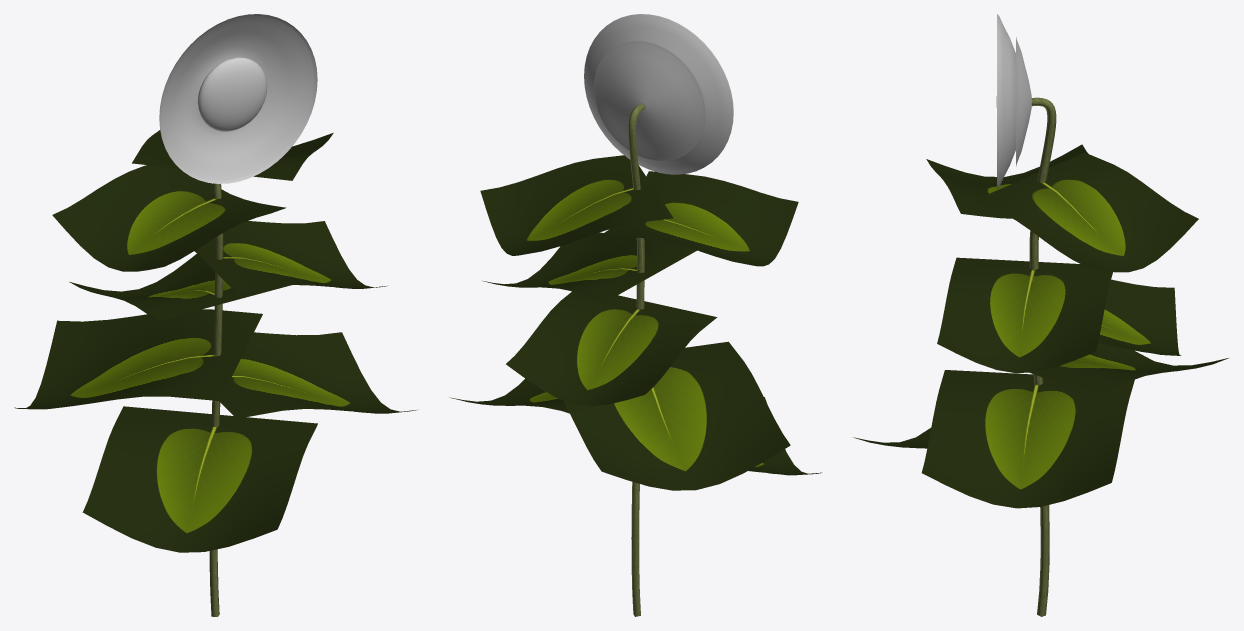
The model's file is SunFlower.fbx.
3 views of the same model, side by side, from view 1: azimuth 30°, elevation 25°; view 2: azimuth 150°, elevation 25°; view 3: azimuth 270°, elevation 25° (orthographic). The views are drawn at different scales.
Parts seen in each view (by area): view 1: SunFlowerLeaf, Flower, Sead, Stem; view 2: SunFlowerLeaf, LeafHead, Flower, Stem; view 3: SunFlowerLeaf, Flower, Stem, LeafHead.
Part boxes in pixels (left/top/right/bottom): SunFlowerLeaf: left=14, top=130, right=417, bottom=552; Flower: left=159, top=14, right=317, bottom=183; Sead: left=197, top=57, right=267, bottom=131; Stem: left=209, top=183, right=223, bottom=616; SunFlowerLeaf: left=450, top=155, right=821, bottom=490; LeafHead: left=594, top=41, right=705, bottom=160; Flower: left=584, top=14, right=733, bottom=174; Stem: left=628, top=103, right=645, bottom=616; SunFlowerLeaf: left=853, top=144, right=1228, bottom=508; Flower: left=997, top=14, right=1015, bottom=189; Stem: left=1029, top=97, right=1056, bottom=616; LeafHead: left=1016, top=37, right=1031, bottom=166.
Size of the model in its own units: 760 by 1298 by 749.
